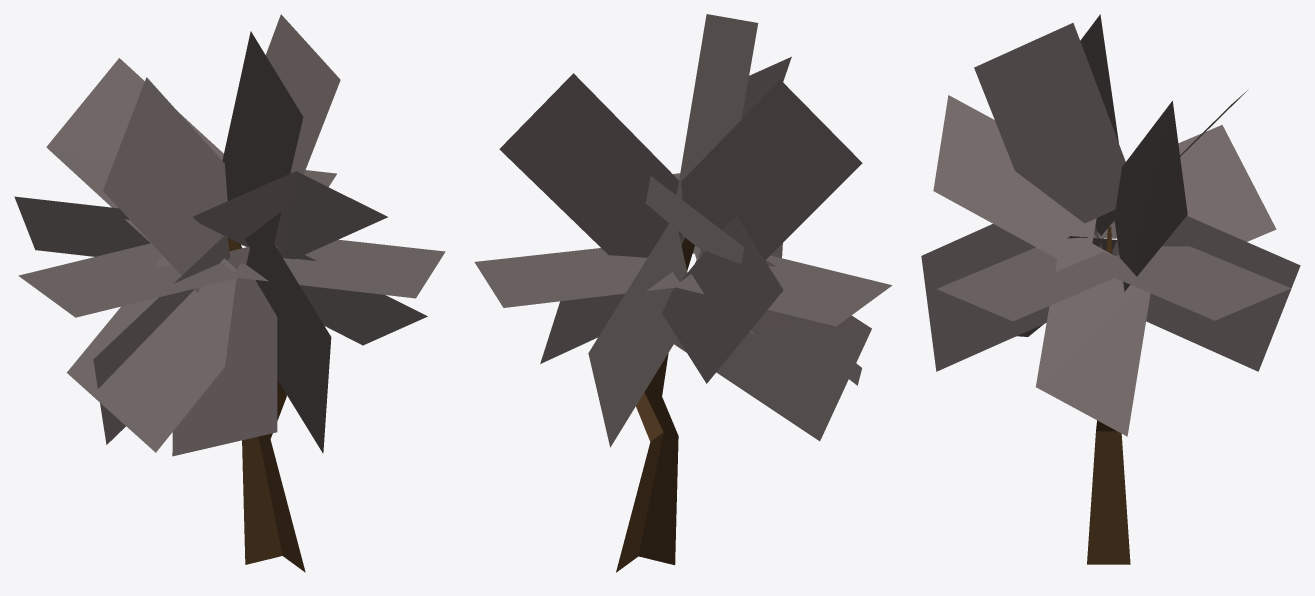
File: obj_tree_9_0.obj
The picture shows the model from 3 angles, left to right: view 1: azimuth 30°, elevation 25°; view 2: azimuth 150°, elevation 25°; view 3: azimuth 270°, elevation 25°; orthographic projection. The views are drawn at different scales.
Bounding box in the file's own units: 1.95 × 3.04 × 1.97.
